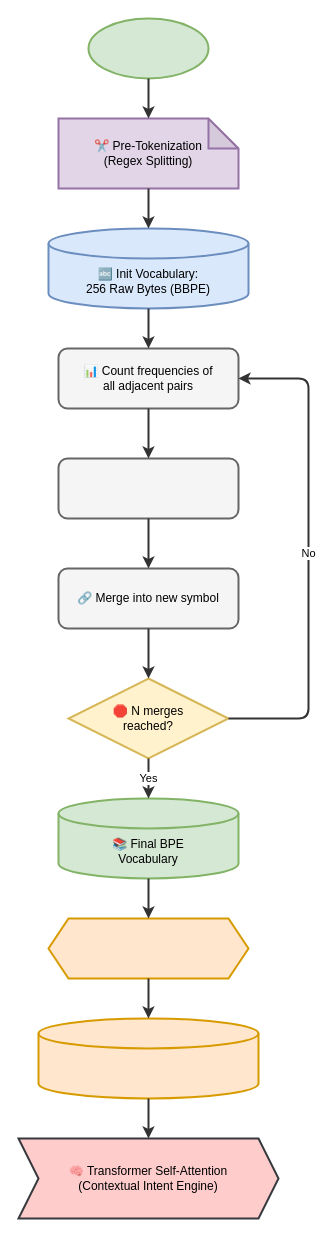
Some shapes in this 334 by 1236 pixel diagram are drawn without their labels. Here are the shapes that lost their labels. From the top down, the centre of each, then its label:
At (148,48): "🚀 Start".
At (148,488): "🔍 Find most frequent pair".
At (148,948): "🔢 Map Subwords to Token IDs (Integers)".
At (148,1058): "📖 Embedding Layer (Isolated Meaning Dictionary)".
